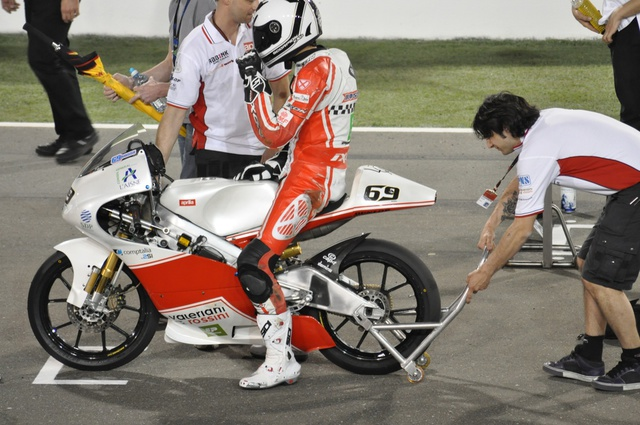helmet: (245, 2, 329, 54)
